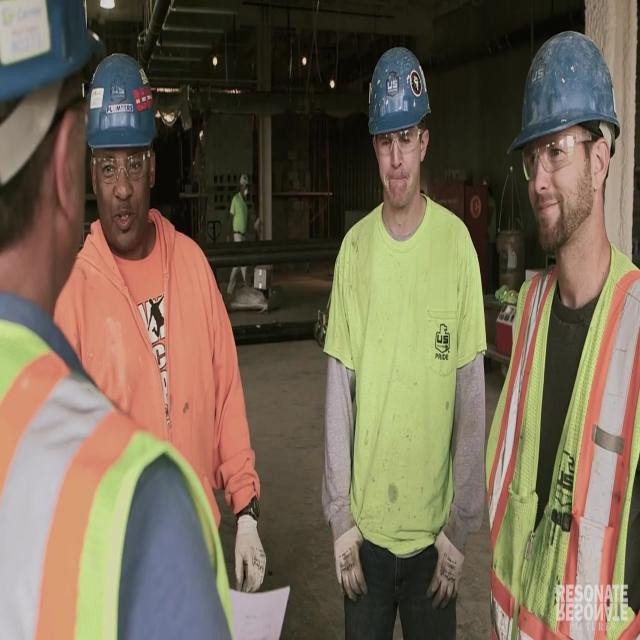Reflective-Jacket: (7, 304, 235, 638), (486, 242, 638, 639)
Safety-Helmet: (507, 23, 625, 166), (0, 1, 98, 142), (83, 47, 163, 157), (364, 41, 434, 139)
